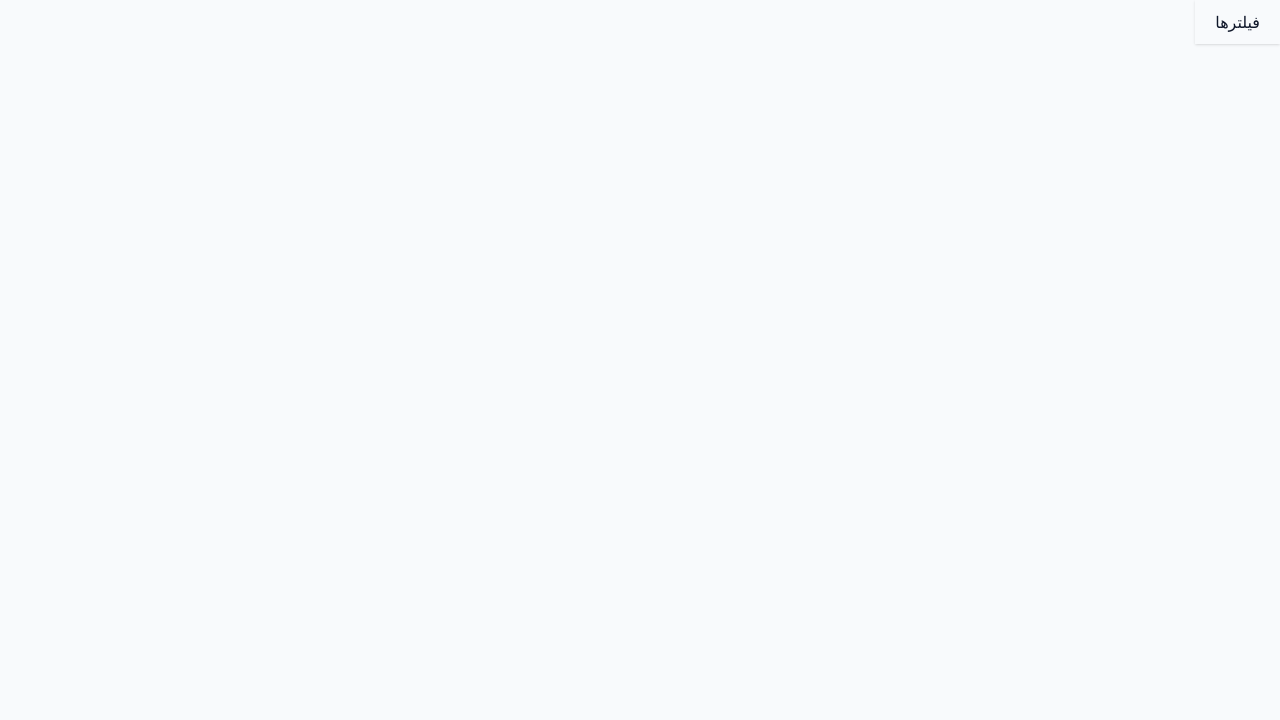
Test case: Sheet focus › moves focus into the bottom sheet and back to its opener on close
Click the button "فیلترها": point(1238, 22) [1195,0,1279,44]
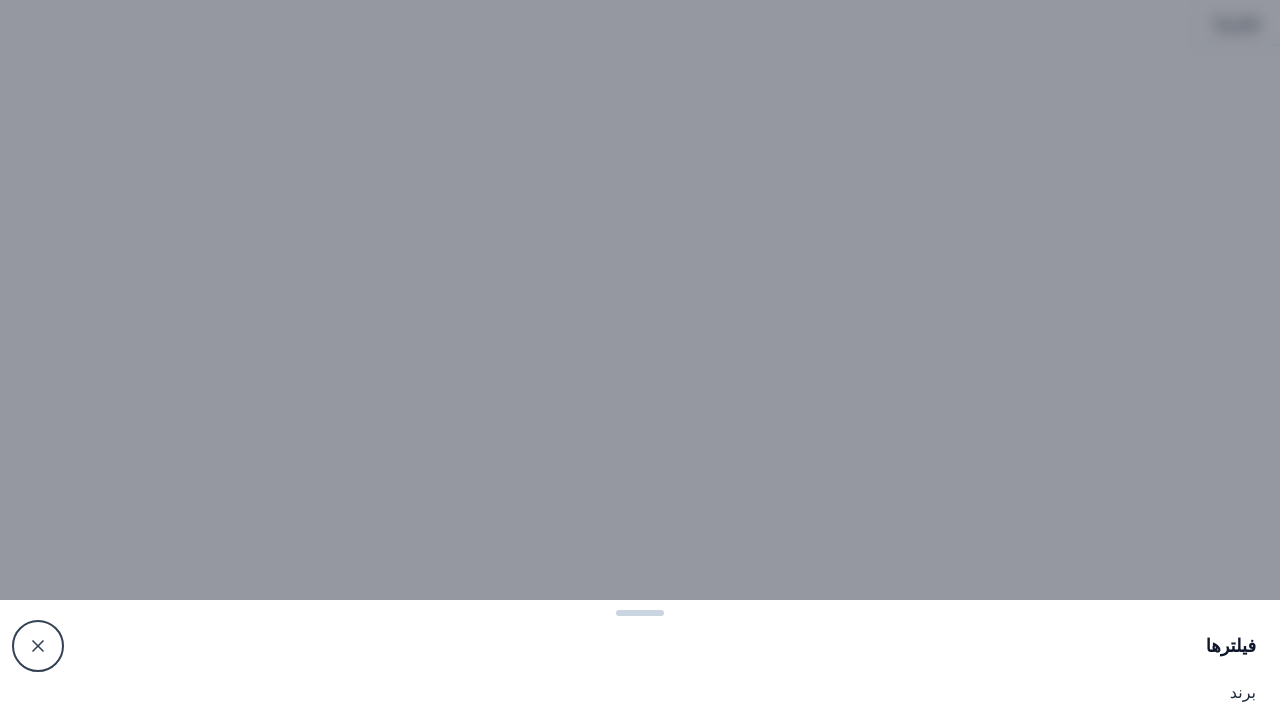
Press Escape
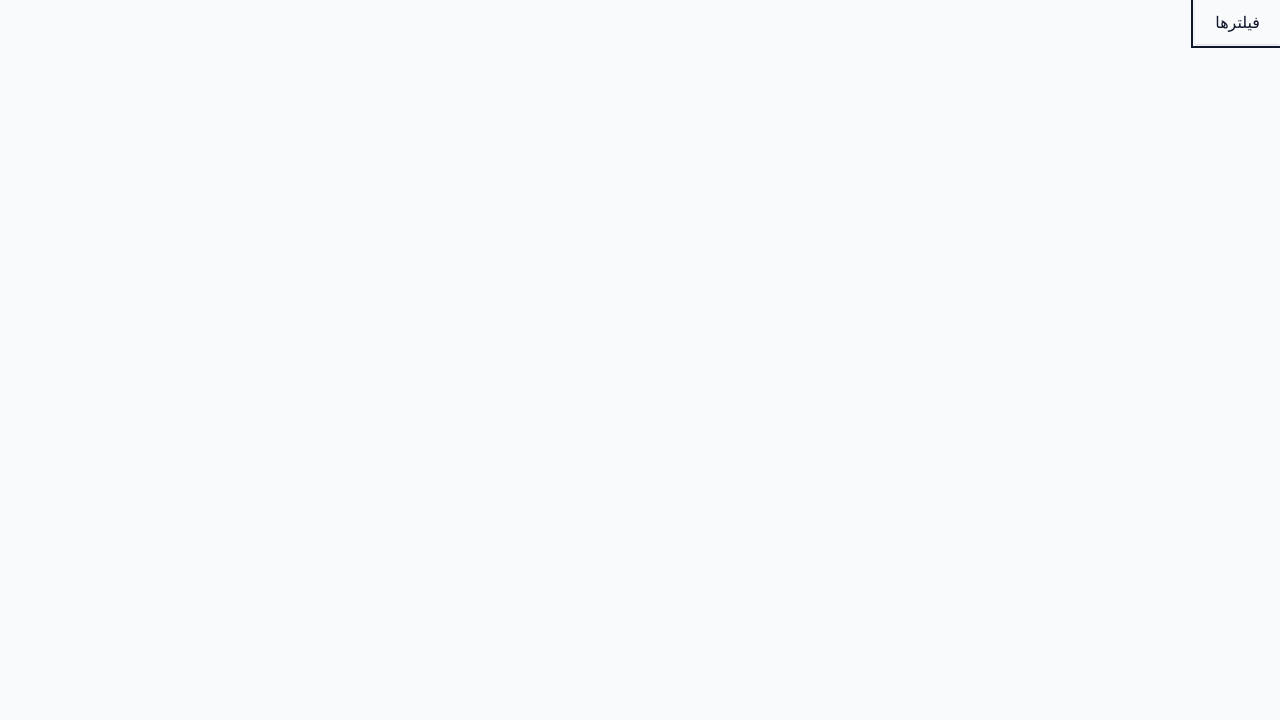
Now the dialog is gone
